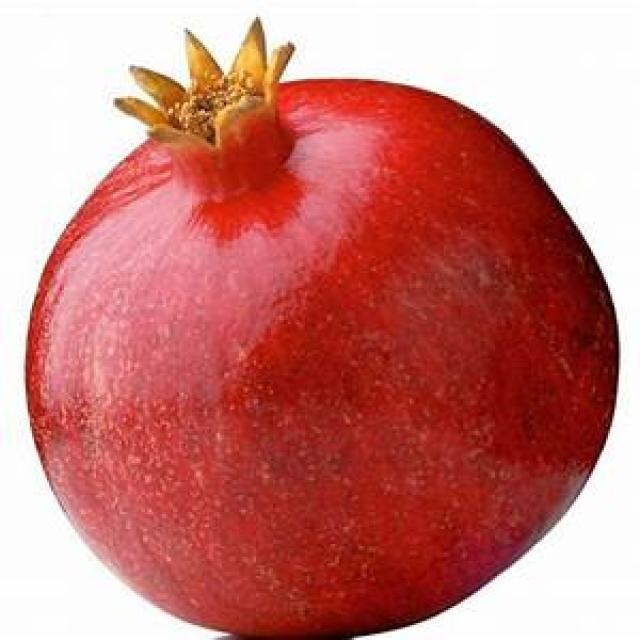Pomegranate: (22, 9, 622, 640)
